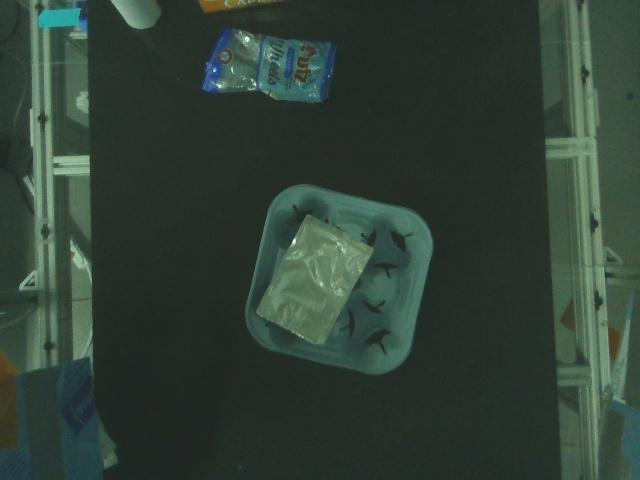cardboard: (245, 184, 433, 374), (107, 0, 164, 32), (196, 0, 298, 16)
plastic: (258, 216, 374, 346), (202, 28, 338, 104)
